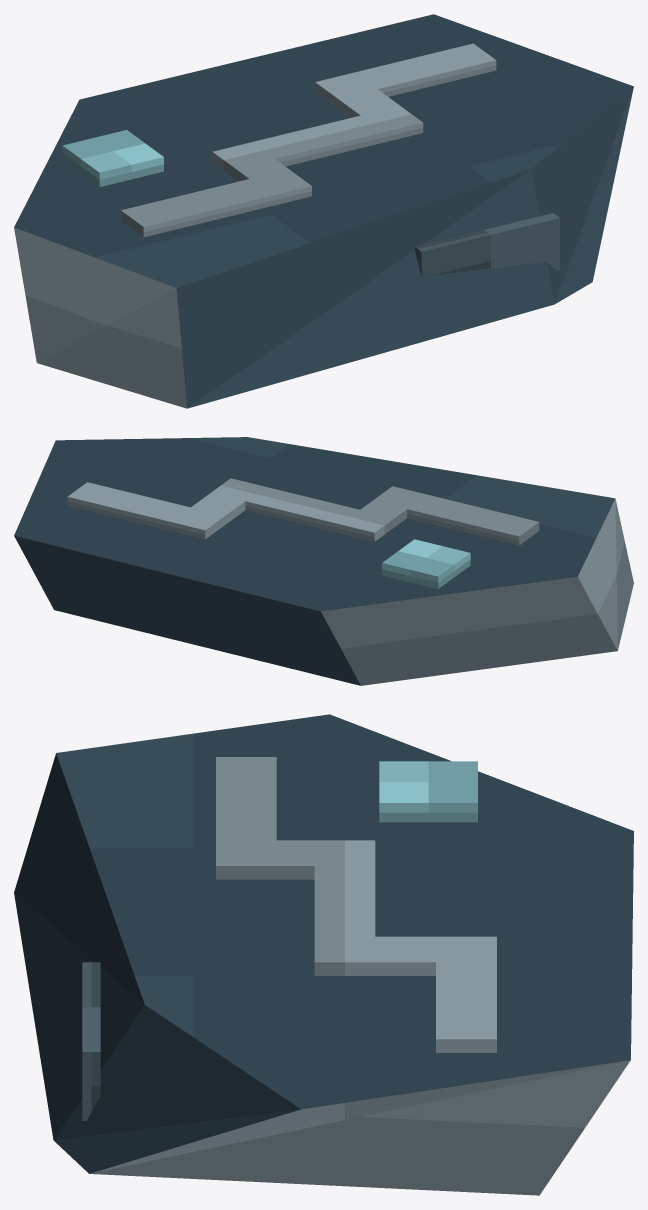
Rendered from qi_moqing_ingot.obj.
3 views of the same model, one above another, from view 1: azimuth 30°, elevation 25°; view 2: azimuth 150°, elevation 25°; view 3: azimuth 270°, elevation 25° (orthographic). The views are drawn at different scales.
Visible parts, largest first — view 1: ingot_body, ingot_cloud, ingot_mineral, ingot_jade; view 2: ingot_body, ingot_cloud, ingot_jade; view 3: ingot_body, ingot_cloud, ingot_jade, ingot_mineral.
Part boxes in pixels (left/top/right/bottom): ingot_body: left=14, top=14, right=633, bottom=408; ingot_cloud: left=121, top=43, right=496, bottom=237; ingot_mineral: left=414, top=213, right=559, bottom=276; ingot_jade: left=62, top=130, right=163, bottom=186; ingot_body: left=14, top=437, right=633, bottom=685; ingot_cloud: left=67, top=478, right=539, bottom=545; ingot_jade: left=382, top=539, right=470, bottom=588; ingot_body: left=14, top=714, right=633, bottom=1195; ingot_cloud: left=216, top=757, right=496, bottom=1052; ingot_jade: left=379, top=761, right=477, bottom=822; ingot_mineral: left=82, top=962, right=100, bottom=1120.
Size of the model in its own units: 0.3922 by 0.0744 by 0.2552.
